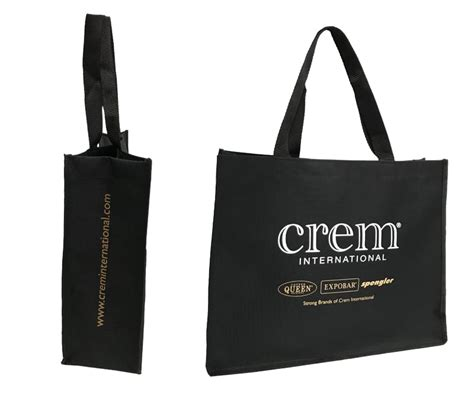nylon: (59, 12, 448, 377)
